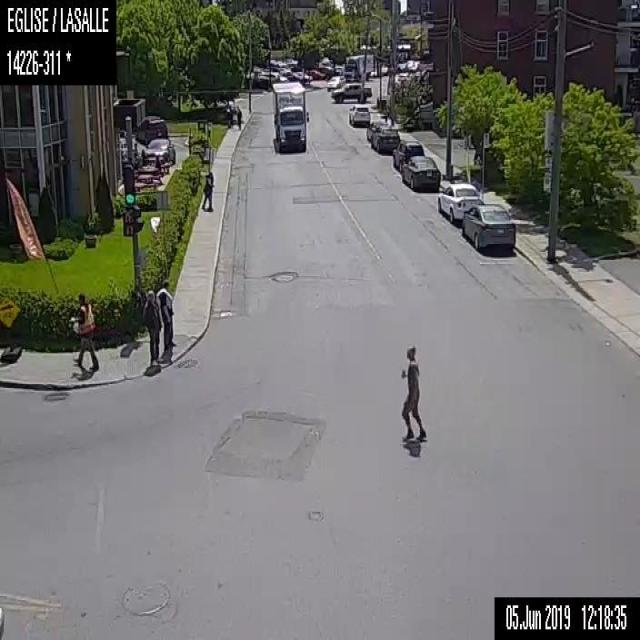pedestrian: (66, 293, 99, 372), (400, 343, 426, 441), (141, 286, 162, 366), (156, 279, 176, 353), (201, 171, 213, 209), (224, 101, 234, 128), (235, 102, 243, 130)
vehicle: (270, 77, 311, 151), (462, 201, 514, 252), (435, 181, 481, 223), (399, 157, 440, 192), (390, 137, 424, 170), (134, 116, 168, 144), (343, 52, 375, 80), (143, 136, 175, 163), (331, 81, 371, 102), (370, 125, 400, 153), (348, 104, 371, 126), (326, 75, 345, 87)
